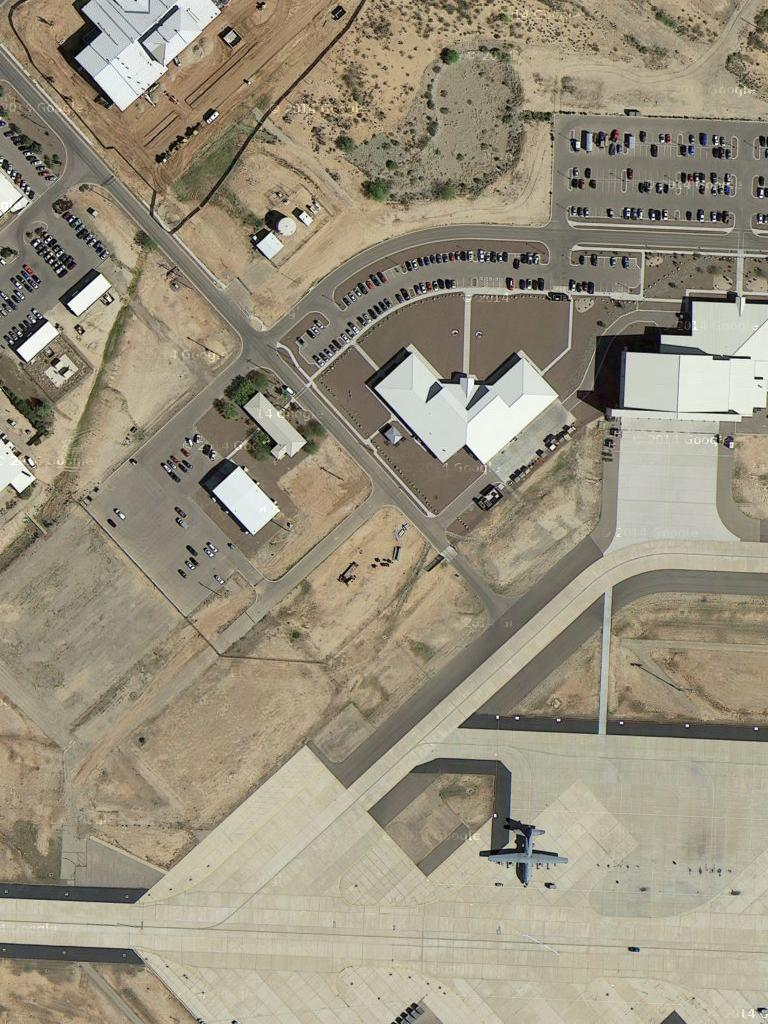C-130: (484, 821, 569, 886)
